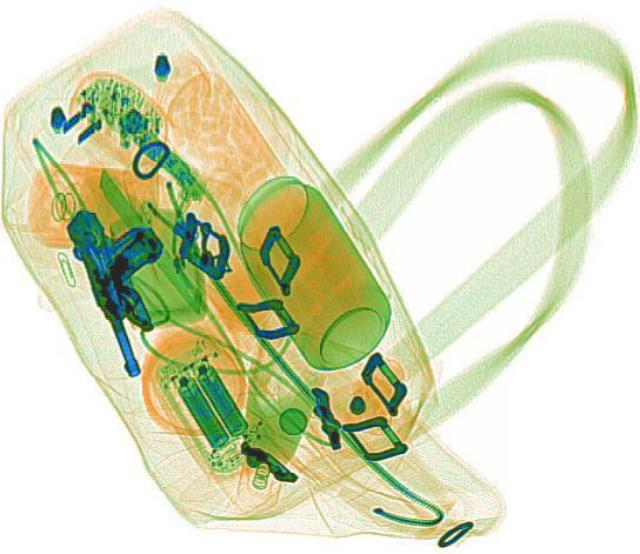Gun: (59, 194, 202, 376)
